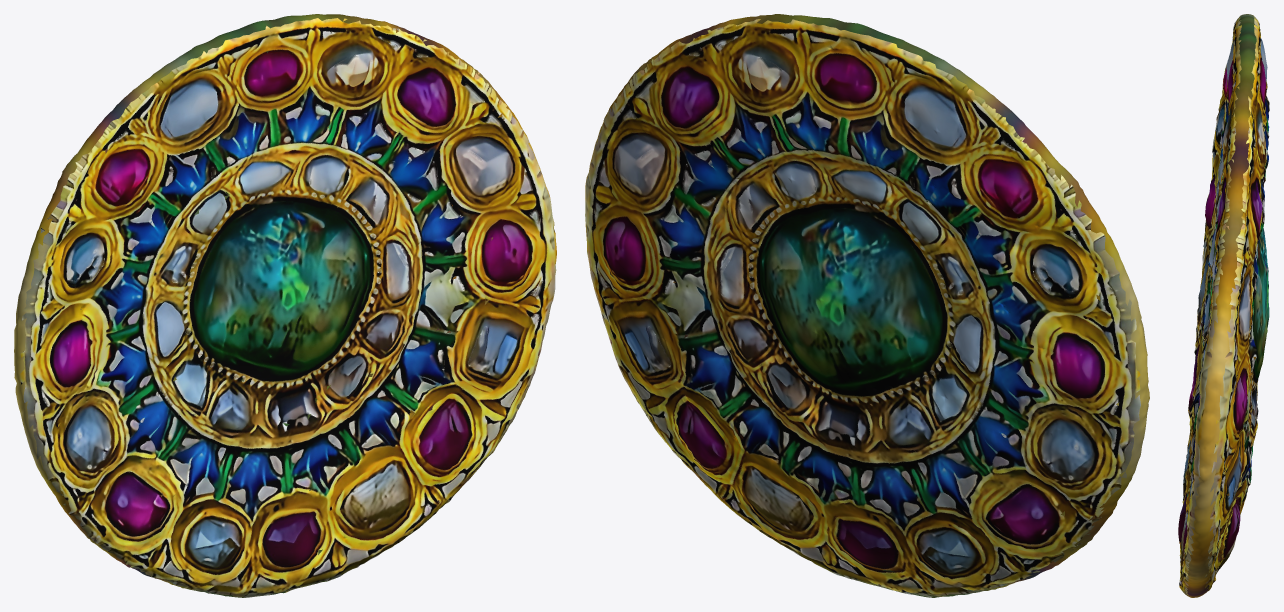
File: kfl-2232.glb
3 views of the same model, side by side, from view 1: azimuth 30°, elevation 25°; view 2: azimuth 150°, elevation 25°; view 3: azimuth 270°, elevation 25° (orthographic). The views are drawn at different scales.
Visible parts, largest first — view 1: kfl-2232; view 2: kfl-2232; view 3: kfl-2232.
Part boxes in pixels (x1=…): kfl-2232: x1=14, y1=14, x2=556, y2=597; kfl-2232: x1=585, y1=14, x2=1149, y2=597; kfl-2232: x1=1178, y1=14, x2=1269, y2=597.
Size of the model in its own units: 0.9916 by 0.9792 by 0.1526.
Materials: 4 (4 with a texture image).
